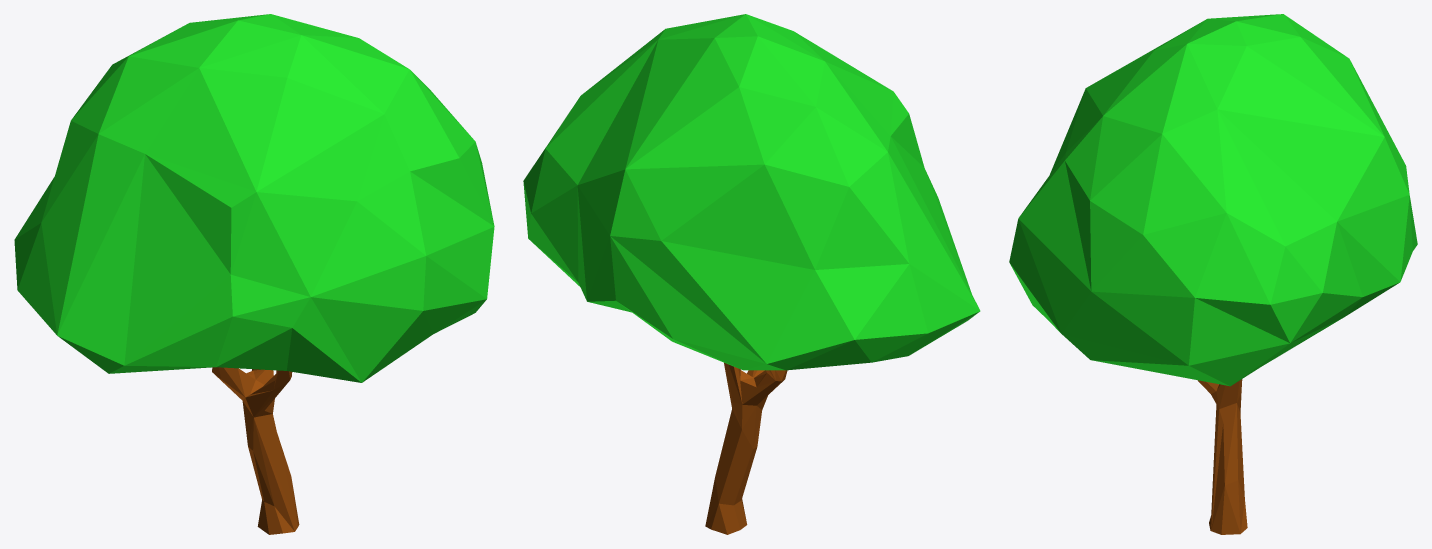
File: tree-round.glb
The picture shows the model from 3 angles, left to right: view 1: azimuth 30°, elevation 25°; view 2: azimuth 150°, elevation 25°; view 3: azimuth 270°, elevation 25°; orthographic projection. The views are drawn at different scales.
Parts seen in each view (by area): view 1: leaves, trunk; view 2: leaves, trunk; view 3: leaves, trunk.
Boxes of the visible parts, box(x1,y1,x2,y2) form: leaves: box(14, 14, 494, 382); trunk: box(212, 367, 299, 534); leaves: box(523, 14, 980, 370); trunk: box(705, 362, 787, 534); leaves: box(1009, 14, 1417, 386); trunk: box(1198, 379, 1247, 534).
Size of the model in its own units: 7.01 by 7.99 by 6.04.
